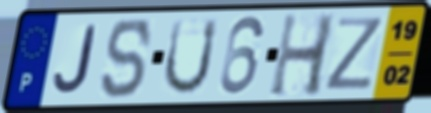6: (219, 14, 267, 98)
H: (266, 11, 339, 99)
J: (51, 23, 100, 96)
S: (99, 16, 155, 102)
U: (160, 16, 221, 98)
Z: (321, 15, 386, 93)
